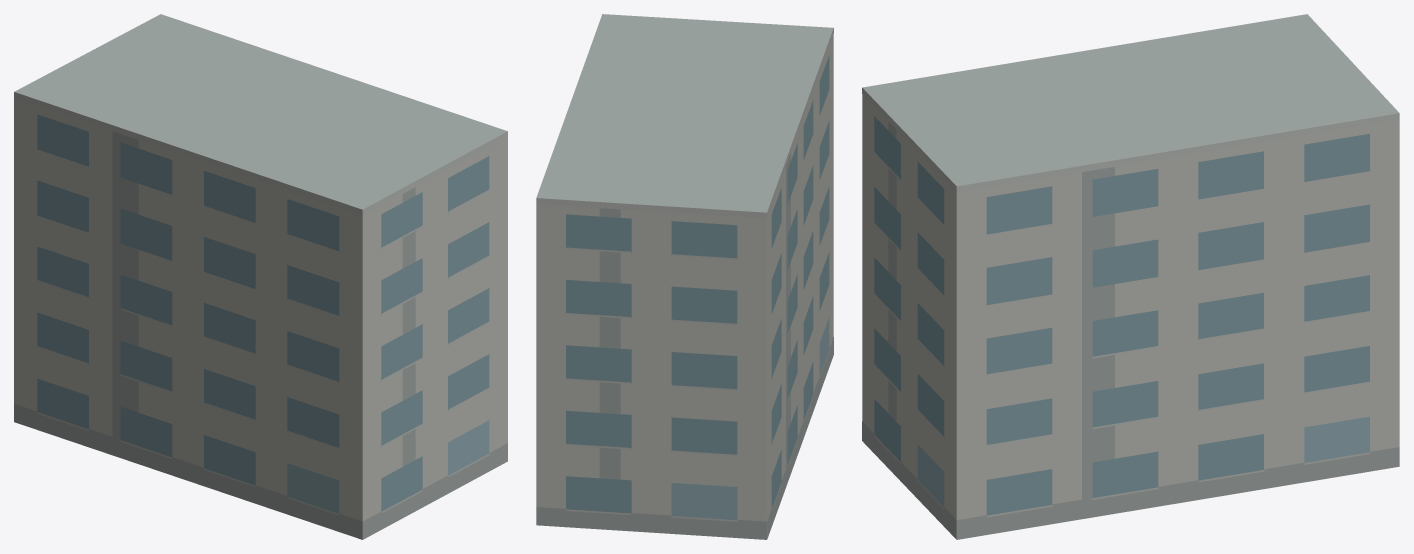
The model's file is survey-upis-32888765.glb.
The picture shows the model from 3 angles, left to right: view 1: azimuth 30°, elevation 25°; view 2: azimuth 150°, elevation 25°; view 3: azimuth 270°, elevation 25°; orthographic projection. The views are drawn at different scales.
Visible parts, largest first — view 1: survey-upis-32888765.tmp; view 2: survey-upis-32888765.tmp; view 3: survey-upis-32888765.tmp.
Part boxes in pixels (x1,y1,x2,y2): survey-upis-32888765.tmp: (14, 14, 507, 539); survey-upis-32888765.tmp: (536, 14, 833, 539); survey-upis-32888765.tmp: (862, 14, 1399, 539).
Bounding box in the file's own units: 13.81 × 13.2 × 18.2.
